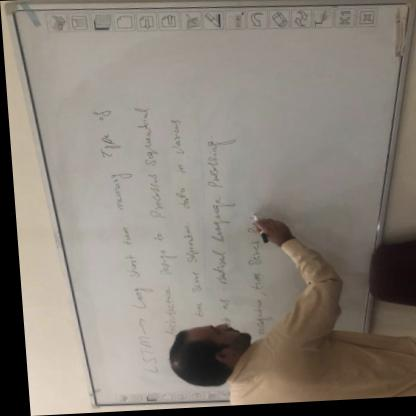Handwritten text: (74, 83, 159, 392), (129, 101, 178, 347), (157, 111, 204, 324), (193, 127, 240, 291), (241, 237, 274, 342)
Lecturer: (156, 287, 416, 410)
Whiteboard: (4, 6, 405, 410)
